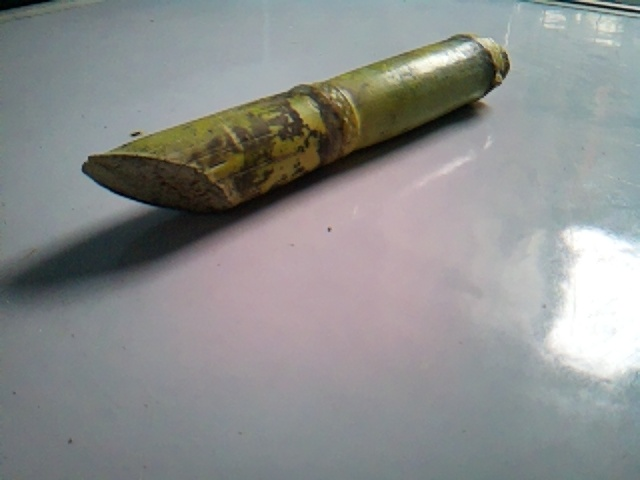Good Sugarcane: (78, 32, 511, 214)
Node: (275, 79, 364, 170)
